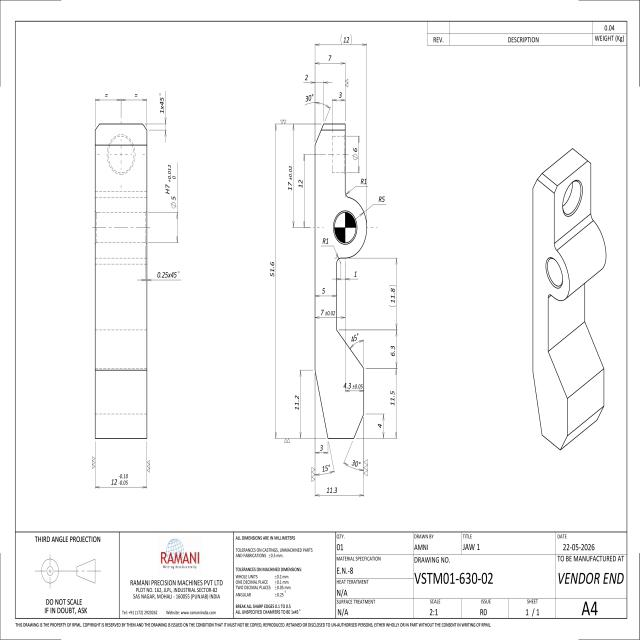dimension: (165, 163, 177, 210), (156, 269, 182, 280), (110, 472, 129, 486), (340, 32, 356, 45), (388, 282, 396, 308), (341, 381, 364, 390), (158, 92, 165, 115), (349, 332, 361, 344), (351, 456, 362, 469), (389, 388, 396, 408), (293, 393, 300, 413), (320, 309, 337, 317), (287, 164, 292, 191), (268, 260, 275, 279), (351, 145, 358, 162), (324, 486, 338, 494), (304, 92, 315, 102), (321, 463, 331, 474), (389, 343, 396, 358), (303, 71, 312, 81), (359, 176, 368, 186), (377, 194, 386, 204), (320, 236, 330, 245), (327, 52, 335, 62), (337, 90, 344, 99), (353, 269, 359, 279), (320, 286, 326, 296), (298, 178, 303, 189), (318, 444, 324, 453), (376, 422, 383, 429), (103, 91, 109, 98), (134, 91, 138, 98)
